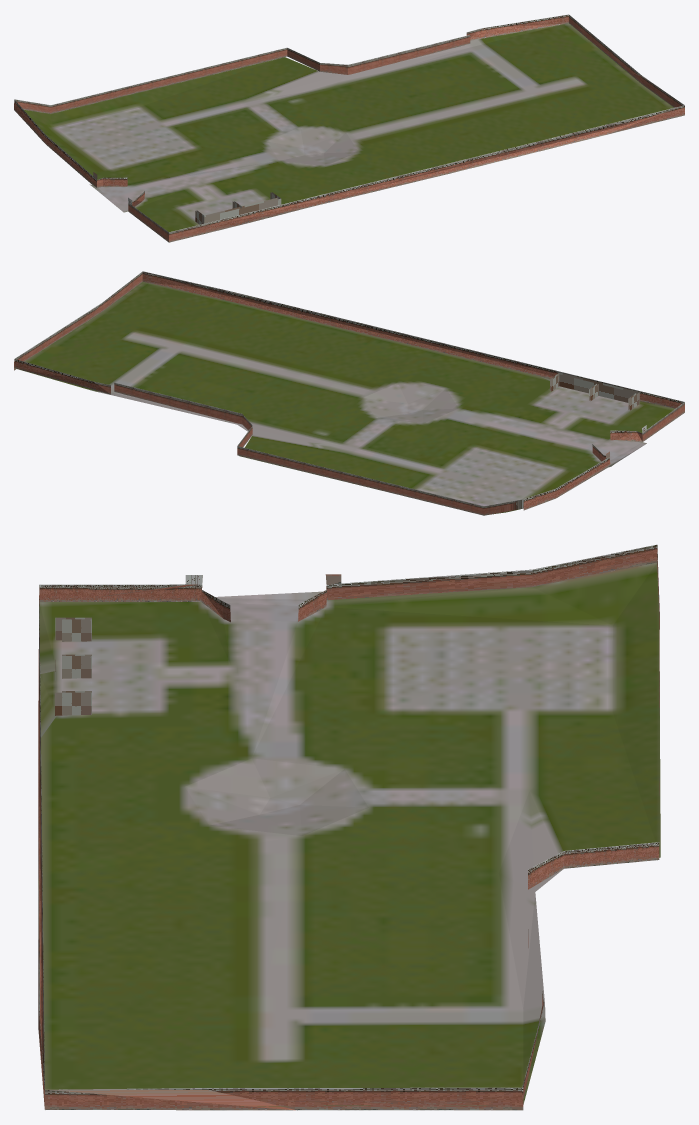
The model's file is lodveyard01_lawn.obj.
3 renders of one model, top to bottom at view 1: azimuth 30°, elevation 25°; view 2: azimuth 150°, elevation 25°; view 3: azimuth 270°, elevation 25°, orthographic. The views are drawn at different scales.
Visible parts, largest first — view 1: LODveyard01_LAwN; view 2: LODveyard01_LAwN; view 3: LODveyard01_LAwN.
Boxes of the visible parts, x1,y1,x2,y2 form: LODveyard01_LAwN: (14, 14, 684, 242); LODveyard01_LAwN: (14, 271, 684, 515); LODveyard01_LAwN: (38, 544, 660, 1110).
Size of the model in its own units: 147 by 8.71 by 75.57.
Materials: 2 (2 with a texture image).
